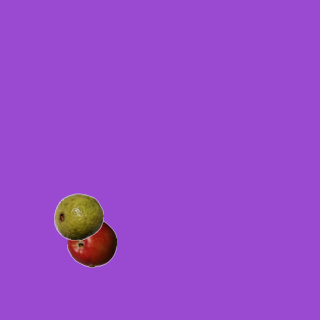Apple Braeburn: (66, 217, 116, 267)
Guava: (53, 191, 103, 241)
